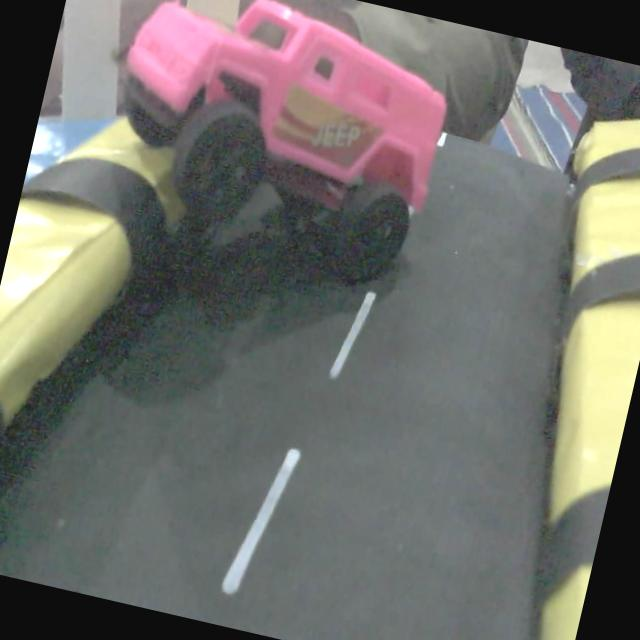Accident: (126, 0, 450, 283)
